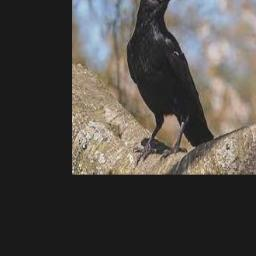Crow: (126, 0, 214, 162)
